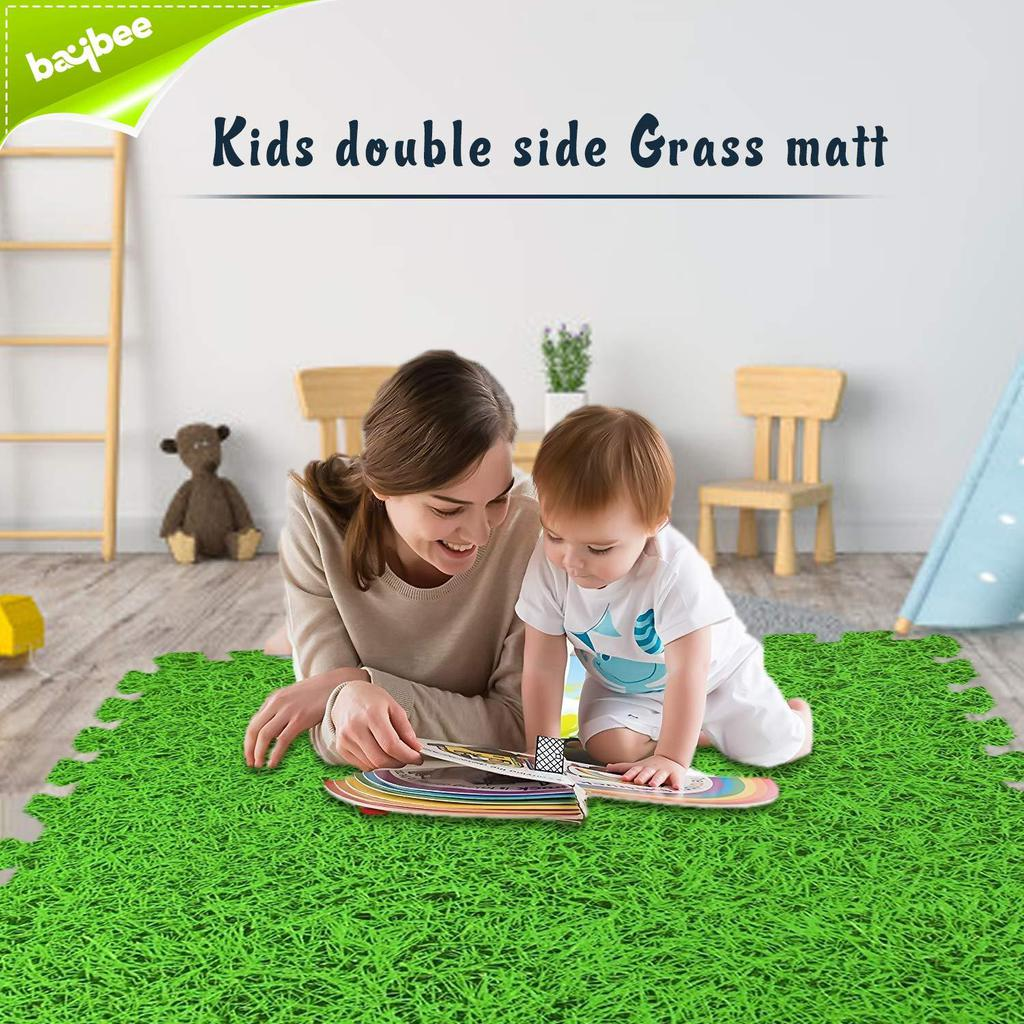child: (512, 400, 837, 789)
